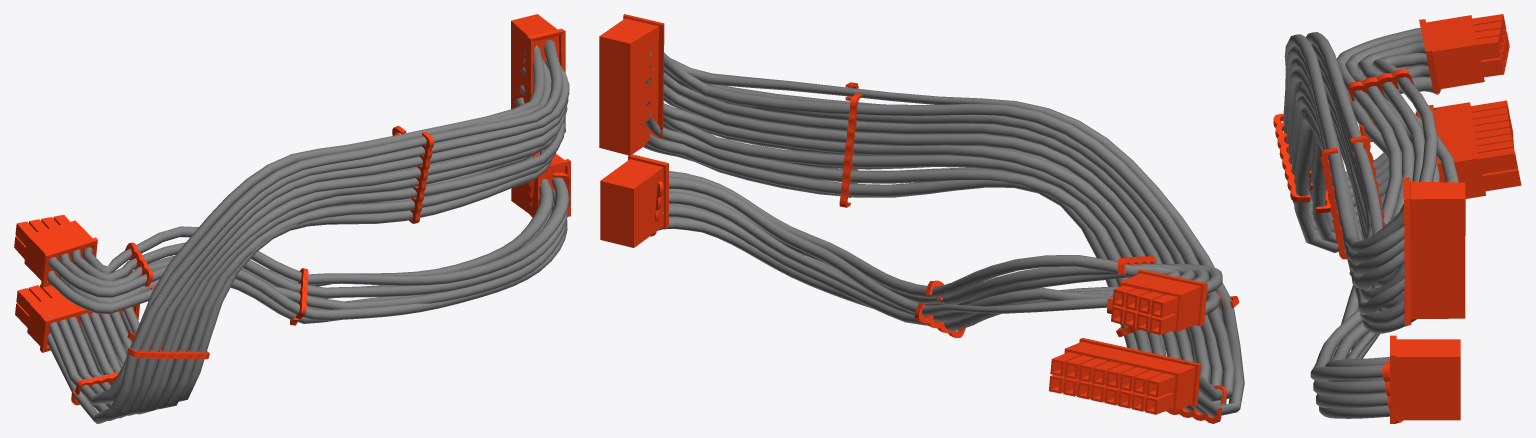
The model's file is SM_PowerCables.fbx.
3 views of the same model, side by side, from view 1: azimuth 30°, elevation 25°; view 2: azimuth 150°, elevation 25°; view 3: azimuth 270°, elevation 25° (orthographic). The views are drawn at different scales.
Visible parts, largest first — view 1: PowerCables; view 2: PowerCables; view 3: PowerCables.
Boxes of the visible parts, box(x1,y1,x2,y2) form: PowerCables: box(14, 14, 570, 423); PowerCables: box(599, 14, 1244, 423); PowerCables: box(1273, 14, 1521, 423).
Size of the model in its own units: 3.31 by 1.55 by 1.12.
